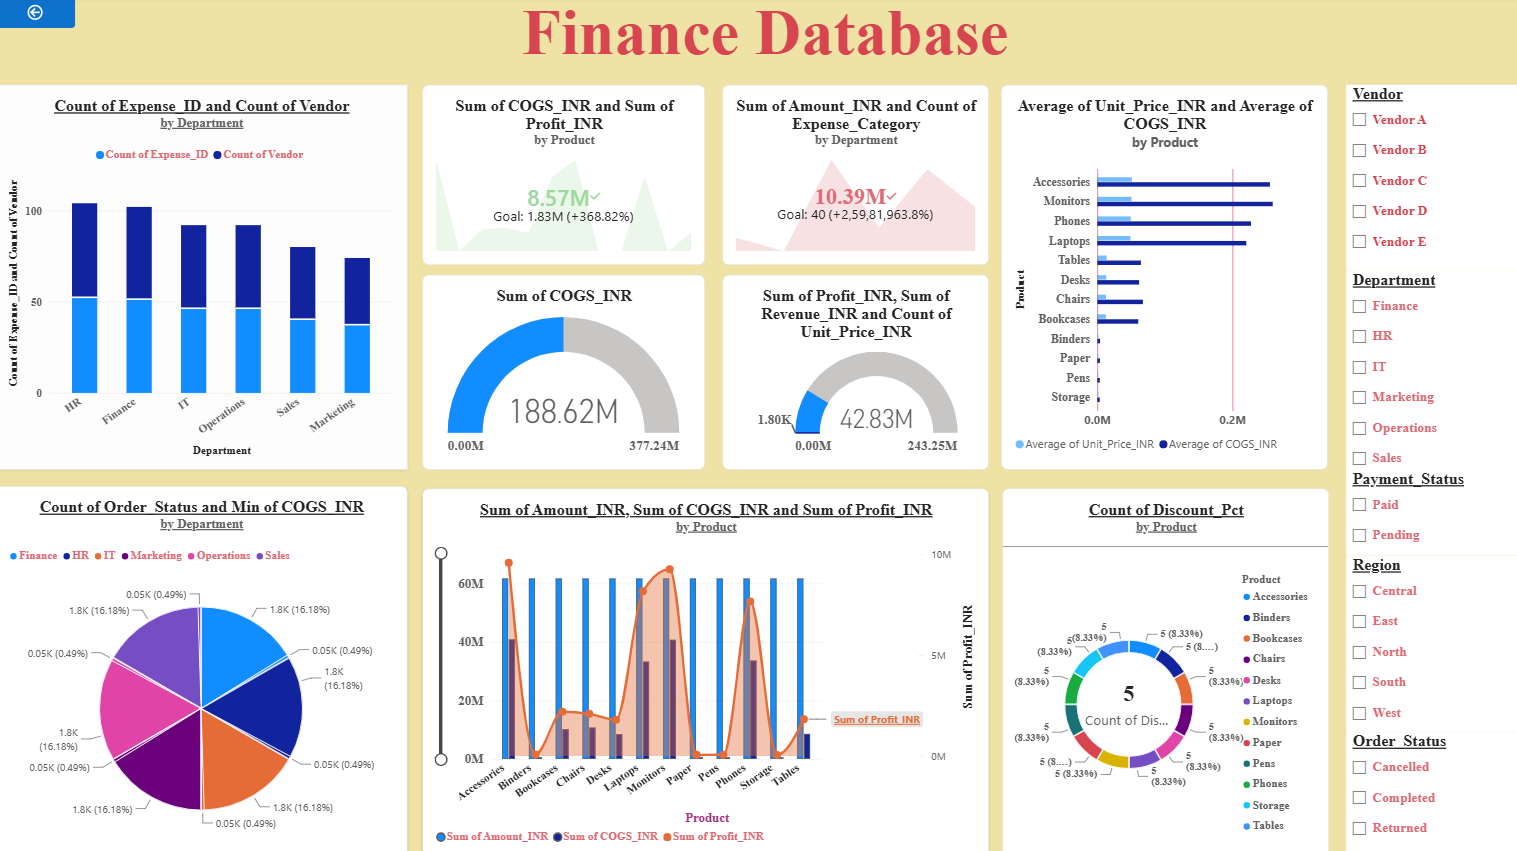

Layout of this report page (visuals, bound fields, positions):
{"tool":"powerbi","page":{"name":"Page 1","canvas":[1920,1080],"ordinal":0},"visuals":[{"type":"columnChart","fields":{"Category":["Expenses.Department"],"Y":["CountNonNull(Expenses.Expense_ID)","CountNonNull(Expenses.Vendor)"]},"box":[0,110.7,514.4,480.1],"z":0},{"type":"pieChart","fields":{"Category":["Expenses.Department"],"Y":["CountNonNull(TransactionsData.Order_Status)","Min(TransactionsData.COGS_INR)"]},"box":[0,611.1,514.4,469.2],"z":1000},{"type":"donutChart","fields":{"Series":["TransactionsData.Product"],"Y":["Count(TransactionsData.Discount_Pct)"]},"box":[1256.5,614.2,406.9,466.1],"z":2000},{"type":"lineClusteredColumnComboChart","fields":{"Category":["TransactionsData.Product"],"Y":["Sum(ExpensesData.Amount_INR)","Sum(TransactionsData.COGS_INR)"],"Y2":["Sum(TransactionsData.Profit_INR)"]},"box":[533.1,614.2,706.2,466.1],"z":3000},{"type":"kpi","fields":{"Goal":["Sum(TransactionsData.Profit_INR)"],"Indicator":["Sum(TransactionsData.COGS_INR)"],"TrendLine":["TransactionsData.Product"]},"box":[533.1,110.7,352.3,224.5],"z":4000},{"type":"slicer","fields":{"Values":["Expenses.Vendor"]},"box":[1685.2,110.7,235.4,232.3],"z":5000},{"type":"slicer","fields":{"Values":["Expenses.Department"]},"box":[1685.2,343,235.4,252.5],"z":6000},{"type":"slicer","fields":{"Values":["TransactionsData.Region"]},"box":[1685.2,698.4,235.4,219.8],"z":7000},{"type":"slicer","fields":{"Values":["TransactionsData.Order_Status"]},"box":[1685.2,918.2,235.4,162.1],"z":8000},{"type":"slicer","fields":{"Values":["ExpensesData.Payment_Status"]},"box":[1685.2,590.8,235.4,107.6],"z":9000},{"type":"kpi","fields":{"Goal":["CountNonNull(ExpensesData.Expense_Category)"],"Indicator":["Sum(ExpensesData.Amount_INR)"],"TrendLine":["ExpensesData.Department"]},"box":[907.3,110.7,332,224.5],"z":10000},{"type":"textbox","box":[0,0,1920.4,110.9],"z":11000},{"type":"actionButton","box":[0,0,100,40],"z":12000},{"type":"gauge","fields":{"Y":["Sum(TransactionsData.COGS_INR)"]},"box":[533.1,347.6,352.3,243.2],"z":13000},{"type":"gauge","fields":{"MaxValue":["Sum(TransactionsData.Revenue_INR)"],"TargetValue":["Count(TransactionsData.Unit_Price_INR)"],"Y":["Sum(TransactionsData.Profit_INR)"]},"box":[907.3,347.6,332,243.2],"z":14000},{"type":"clusteredBarChart","fields":{"Category":["TransactionsData.Product"],"Y":["Avg(TransactionsData.Unit_Price_INR)","Avg(TransactionsData.COGS_INR)"]},"box":[1254.9,110.7,406.9,480.1],"z":15000}]}

Visuals, with their boxes in screenshot pixels (x1, y1, x2, y2), scaled from the page's 1920x1080 canvas onto the 1517x851 screenshot:
columnChart - Expenses.Department x CountNonNull(Expenses.Expense_ID): pyautogui.locateOnScreen(0, 87, 406, 466)
pieChart - Expenses.Department x CountNonNull(TransactionsData.Order_Status): pyautogui.locateOnScreen(0, 482, 406, 850)
donutChart - TransactionsData.Product x Count(TransactionsData.Discount_Pct): pyautogui.locateOnScreen(993, 484, 1314, 850)
lineClusteredColumnComboChart - TransactionsData.Product x Sum(ExpensesData.Amount_INR): pyautogui.locateOnScreen(421, 484, 979, 850)
kpi - Sum(TransactionsData.Profit_INR) x Sum(TransactionsData.COGS_INR): pyautogui.locateOnScreen(421, 87, 700, 264)
slicer - Expenses.Vendor: pyautogui.locateOnScreen(1331, 87, 1516, 270)
slicer - Expenses.Department: pyautogui.locateOnScreen(1331, 270, 1516, 469)
slicer - TransactionsData.Region: pyautogui.locateOnScreen(1331, 550, 1516, 724)
slicer - TransactionsData.Order_Status: pyautogui.locateOnScreen(1331, 724, 1516, 850)
slicer - ExpensesData.Payment_Status: pyautogui.locateOnScreen(1331, 466, 1516, 550)
kpi - CountNonNull(ExpensesData.Expense_Category) x Sum(ExpensesData.Amount_INR): pyautogui.locateOnScreen(717, 87, 979, 264)
textbox: pyautogui.locateOnScreen(0, 0, 1516, 87)
actionButton: pyautogui.locateOnScreen(0, 0, 79, 32)
gauge - Sum(TransactionsData.COGS_INR): pyautogui.locateOnScreen(421, 274, 700, 466)
gauge - Sum(TransactionsData.Revenue_INR) x Count(TransactionsData.Unit_Price_INR): pyautogui.locateOnScreen(717, 274, 979, 466)
clusteredBarChart - TransactionsData.Product x Avg(TransactionsData.Unit_Price_INR): pyautogui.locateOnScreen(992, 87, 1313, 466)
